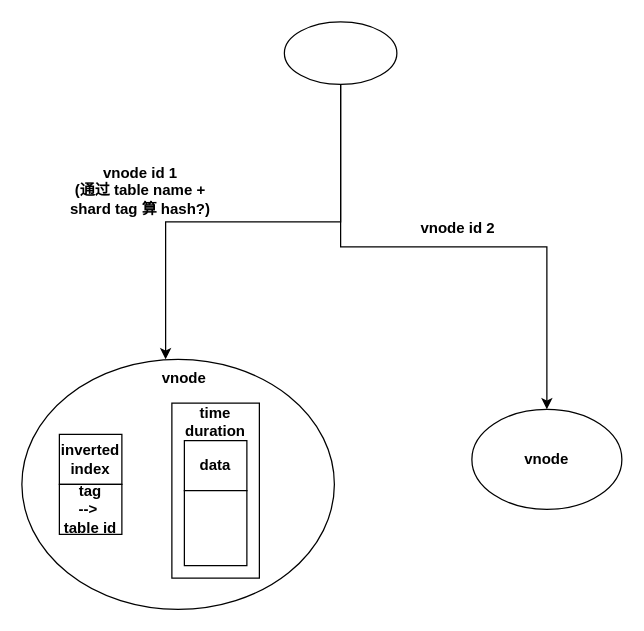
This 644x631 diagram has some shape labels left out. The shapes that lost their labels are listed below. From the top down, each one's centre as x and y in pixels, then its label:
(x=340, y=52): supertable
(x=215, y=527): table id --> data block
